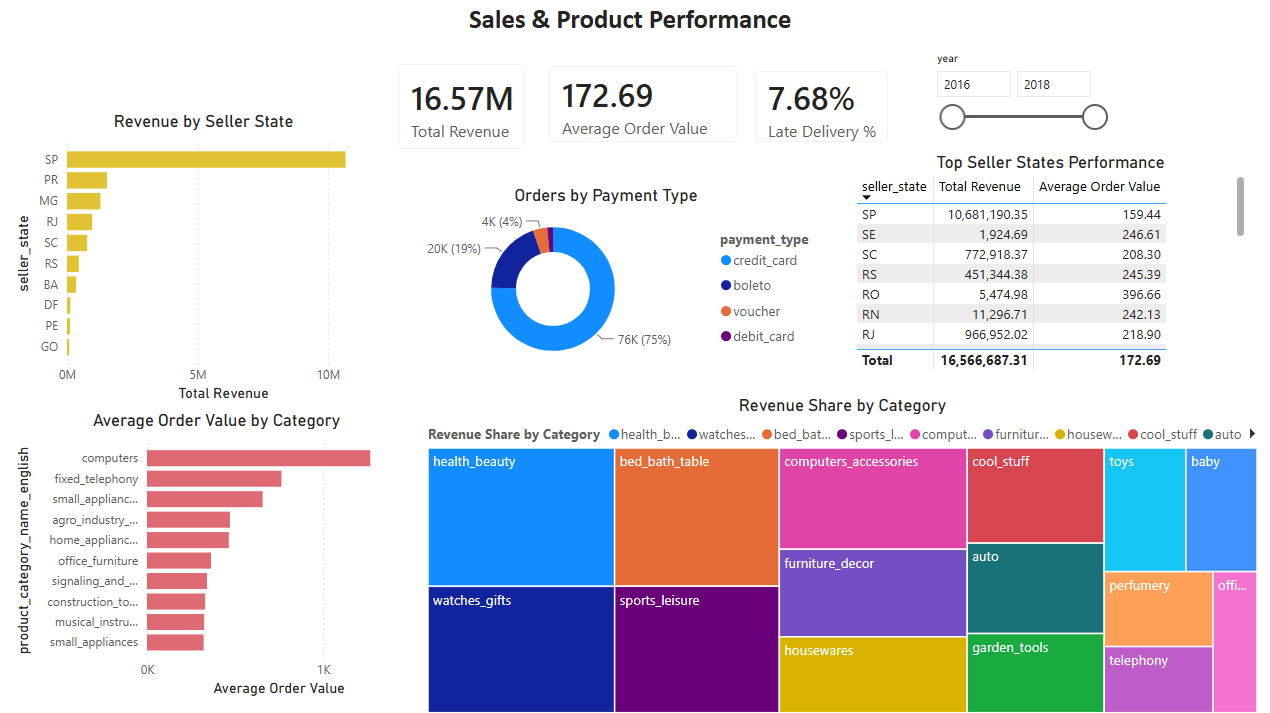

Layout of this report page (visuals, bound fields, positions):
{"tool":"powerbi","page":{"name":"Sales & Product Performance","canvas":[1280,720],"ordinal":1},"visuals":[{"type":"cardVisual","fields":{"Data":["gold_sales_fact.Total Revenue"]},"box":[387,49,161,119],"z":0},{"type":"cardVisual","fields":{"Data":["gold_sales_fact.Average Order Value"]},"box":[538,51,223,110],"z":1000},{"type":"clusteredBarChart","title":"Revenue by Seller State","fields":{"Category":["gold_seller_dim.seller_state"],"Y":["gold_sales_fact.Total Revenue"]},"box":[16,113,387,295],"z":2000},{"type":"donutChart","title":"Orders by Payment Type","fields":{"Category":["gold_sales_fact.payment_type"],"Y":["gold_sales_fact.Total Orders"]},"box":[387,187,450,189],"z":3000},{"type":"treemap","title":"Revenue Share by Category","fields":{"Group":["gold_product_dim.product_category_name_english"],"Values":["gold_sales_fact.Total Revenue"]},"box":[429,397,839,323],"z":4000},{"type":"clusteredBarChart","title":"Average Order Value by Category","fields":{"Category":["gold_product_dim.product_category_name_english"],"Y":["gold_sales_fact.Average Order Value"]},"box":[16,412,413,291],"z":5000},{"type":"slicer","fields":{"Values":["gold_date_dim.year"]},"box":[930,49,192,95],"z":6000},{"type":"cardVisual","fields":{"Data":["gold_sales_fact.Late Delivery %"]},"box":[744,56,167,105],"z":7000},{"type":"tableEx","title":"Top Seller States Performance","fields":{"Values":["gold_seller_dim.seller_state","gold_sales_fact.Total Revenue","gold_sales_fact.Average Order Value"]},"box":[857,154,399,222],"z":8000},{"type":"textbox","box":[0,0,1272,49],"z":8001}]}

Visuals, with their boxes in screenshot pixels (x1, y1, x2, y2), scaled from the page's 1280x720 canvas onto the 1270x713 screenshot:
cardVisual - gold_sales_fact.Total Revenue: detection(384, 49, 544, 166)
cardVisual - gold_sales_fact.Average Order Value: detection(534, 51, 755, 159)
"Revenue by Seller State" clusteredBarChart: detection(16, 112, 400, 404)
"Orders by Payment Type" donutChart: detection(384, 185, 830, 372)
"Revenue Share by Category" treemap: detection(426, 393, 1258, 712)
"Average Order Value by Category" clusteredBarChart: detection(16, 408, 426, 696)
slicer - gold_date_dim.year: detection(923, 49, 1113, 143)
cardVisual - gold_sales_fact.Late Delivery %: detection(738, 55, 904, 159)
"Top Seller States Performance" tableEx: detection(850, 153, 1246, 372)
textbox: detection(0, 0, 1262, 49)
